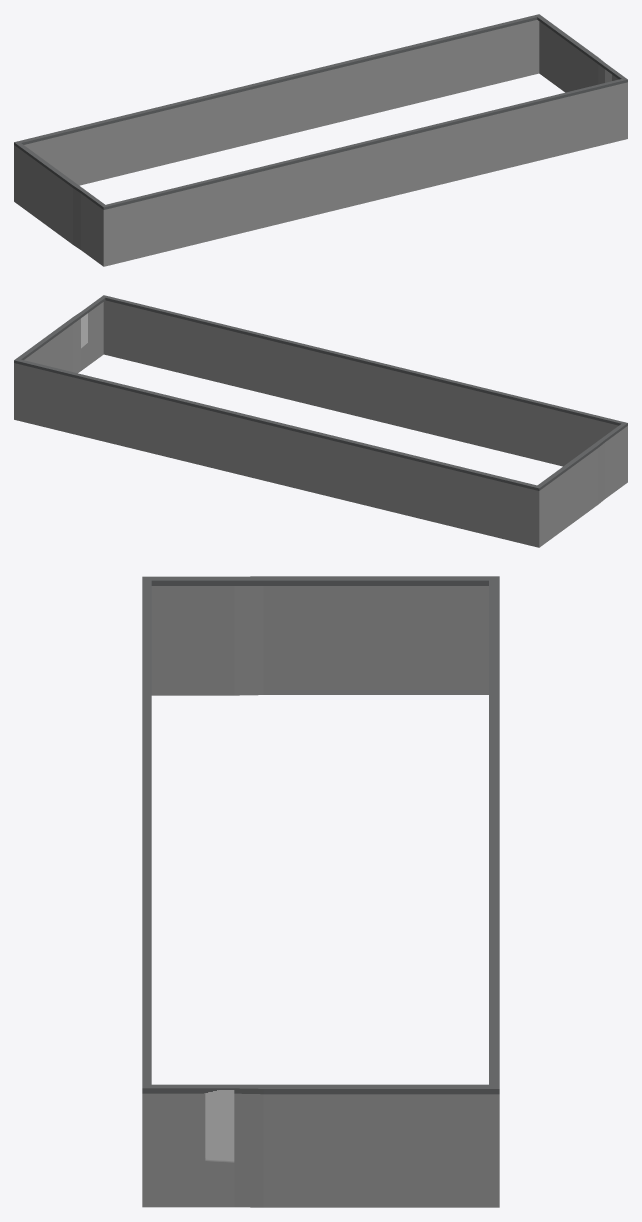
Rendered from Plaza2_Bulkhead.fbx.
The picture shows the model from 3 angles, top to bottom: view 1: azimuth 30°, elevation 25°; view 2: azimuth 150°, elevation 25°; view 3: azimuth 270°, elevation 25°; orthographic projection. The views are drawn at different scales.
Parts seen in each view (by area): view 1: Plaza2_Bulkhead; view 2: Plaza2_Bulkhead; view 3: Plaza2_Bulkhead.
Boxes of the visible parts, x1,y1,x2,y2 form: Plaza2_Bulkhead: (14, 14, 627, 266); Plaza2_Bulkhead: (14, 295, 627, 547); Plaza2_Bulkhead: (142, 576, 499, 1207).
Size of the model in its own units: 32293 by 3490 by 9506.
